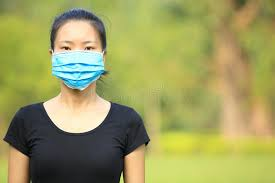with-mask: (47, 11, 112, 91)
